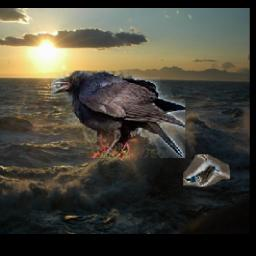Crow: (52, 72, 186, 159)
Swallow: (184, 155, 231, 188)
